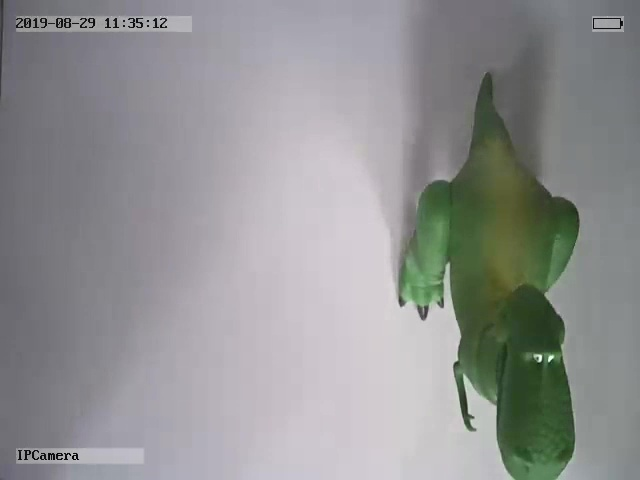rex: (397, 68, 580, 480)
